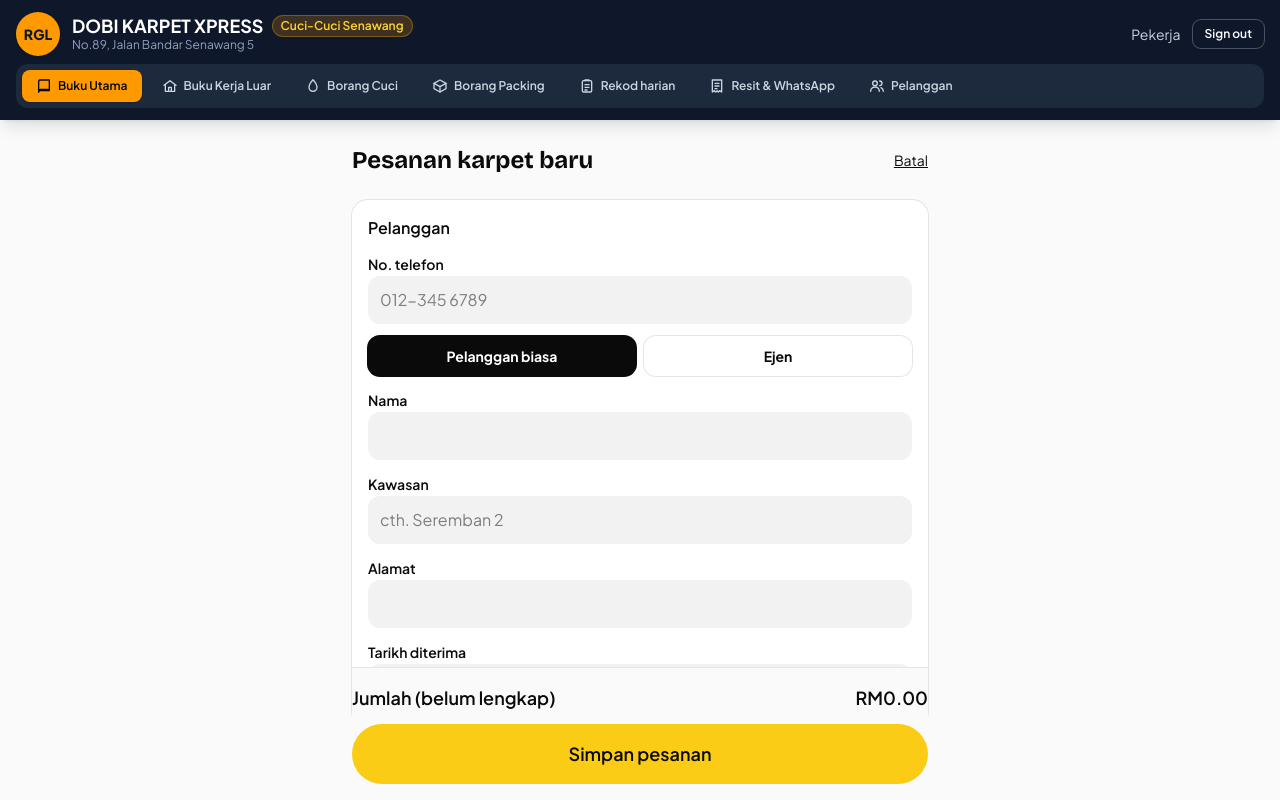
back office › fills in a returning customer from their phone number
Step 1. Type "0123456789" into the field labelled "No. telefon" → (640, 300), box left=368, top=276, right=912, bottom=324
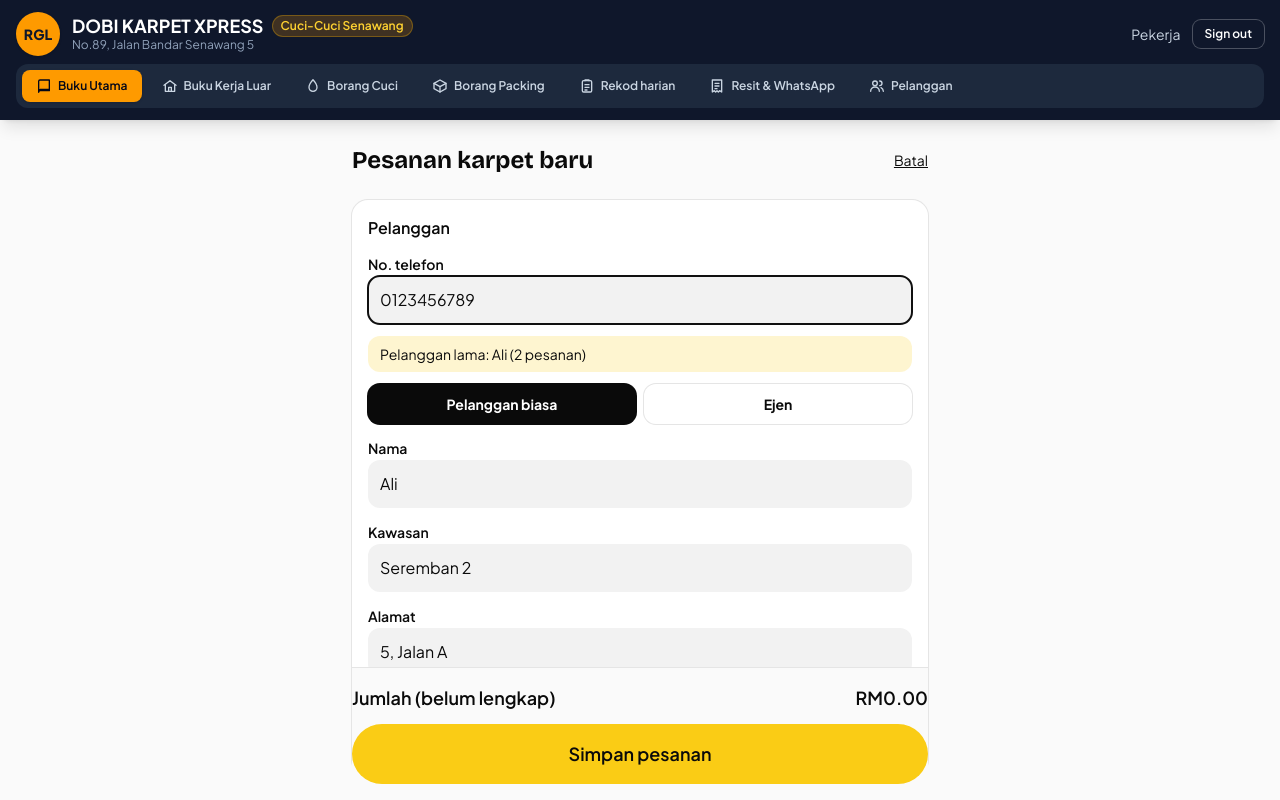
Result: the text "Pelanggan lama: Ali (2 pesanan)" is shown at left=368, top=336, right=912, bottom=372
Result: the field labelled "Nama" holds "Ali" at left=368, top=460, right=912, bottom=508
Result: the field labelled "Kawasan" holds "Seremban 2" at left=368, top=544, right=912, bottom=592
